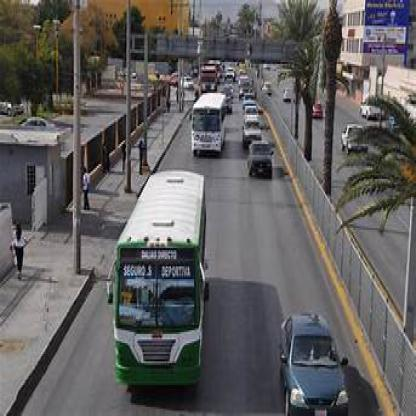bus: (120, 165, 205, 401), (201, 65, 219, 96)
car: (284, 311, 350, 415), (191, 92, 229, 156), (249, 145, 275, 178), (342, 122, 364, 156), (361, 100, 383, 125), (243, 124, 261, 144), (244, 107, 261, 125), (284, 89, 298, 107), (239, 78, 253, 96), (182, 76, 195, 92), (263, 83, 274, 100), (316, 102, 325, 122), (227, 65, 238, 81), (246, 96, 257, 109)
